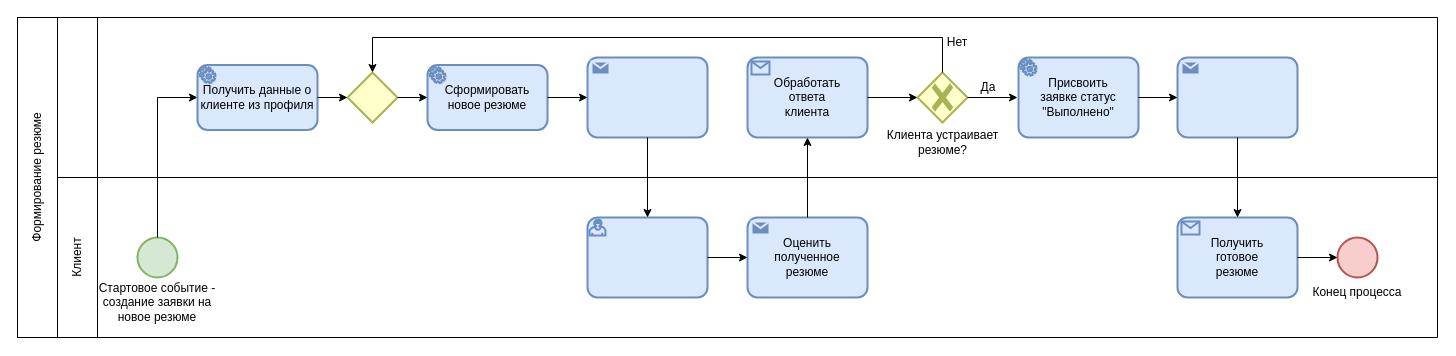
Image size: 1456x356. Some labels were removed from this diagram. Each missing label, with the centre of its shape:
"Отправить клиенту резюме" belongs at point 647,97.
"Отправить клиенту финальную версию резюме" belongs at point 1237,97.
"Просмотреть полученное резюме" belongs at point 647,257.
"Сервис" belongs at point 77,97.
